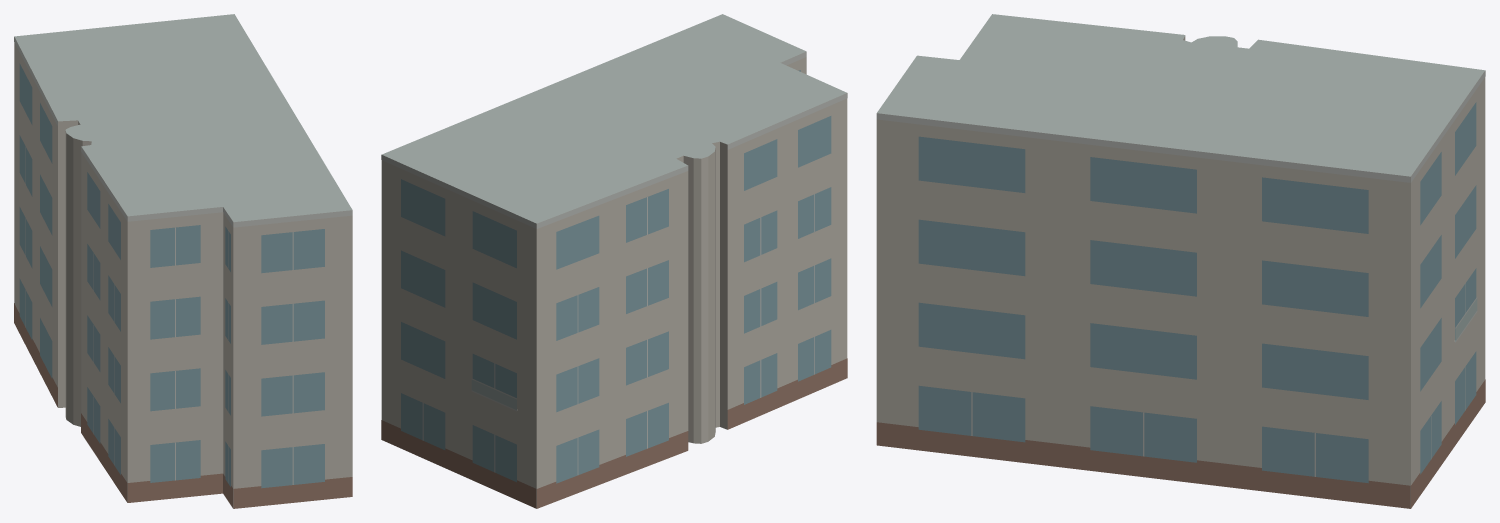
File: survey-upis-32920621.glb
3 renders of one model, left to right at view 1: azimuth 30°, elevation 25°; view 2: azimuth 150°, elevation 25°; view 3: azimuth 270°, elevation 25°, orthographic. The views are drawn at different scales.
Visible parts, largest first — view 1: survey-upis-32920621.tmp; view 2: survey-upis-32920621.tmp; view 3: survey-upis-32920621.tmp.
Boxes of the visible parts, bbox=[...] form: survey-upis-32920621.tmp: bbox=[14, 14, 352, 508]; survey-upis-32920621.tmp: bbox=[381, 14, 847, 508]; survey-upis-32920621.tmp: bbox=[876, 14, 1485, 508].
Size of the model in its own units: 13.55 by 12.9 by 21.43.
